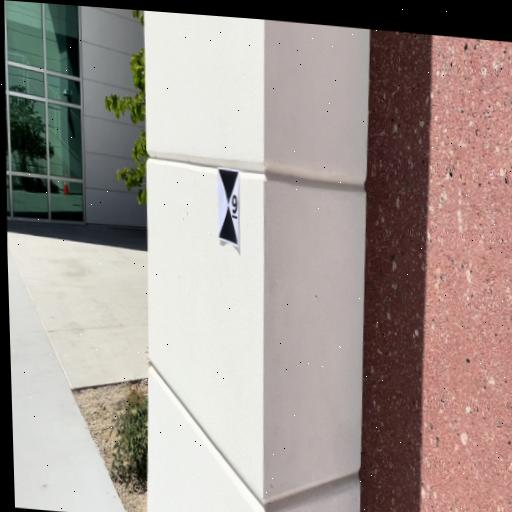target9: (216, 168, 241, 249)
